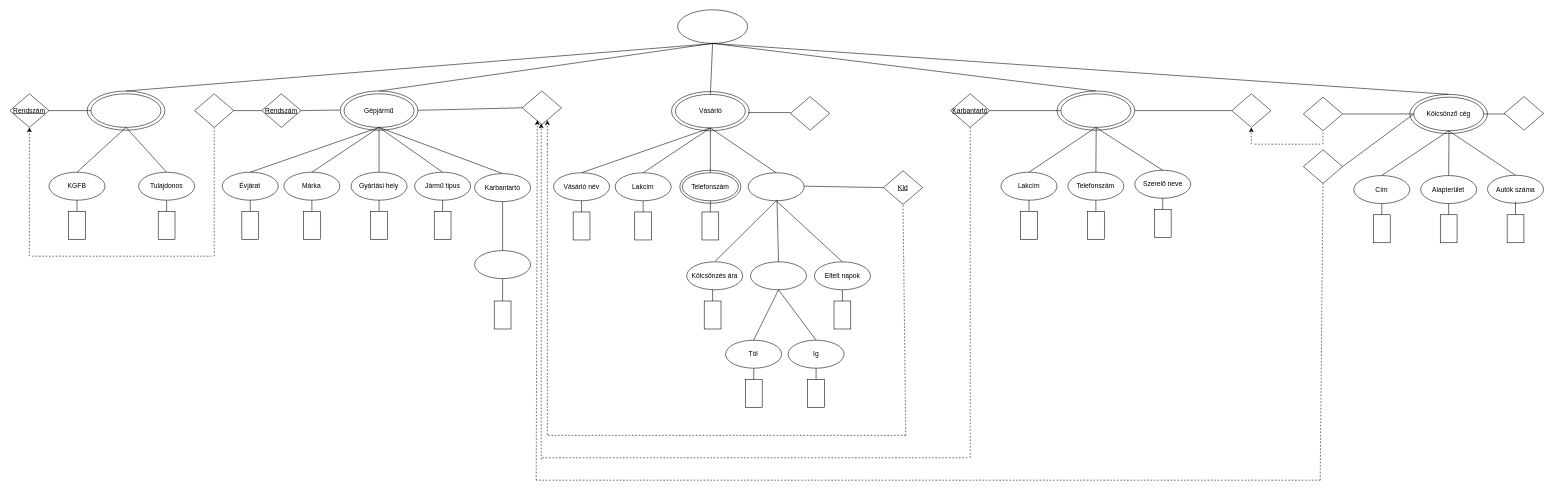
Some shapes in this 1554 by 494 pixel diagram are drawn without their labels. The box of each missing label's shape, as (x1, y1, x2, y2) in pixels:
Autókölcsönzés: (677, 9, 748, 43)
Azonosítja: (194, 93, 234, 127)
CégID: (1504, 96, 1544, 130)
Dolgozik: (1303, 97, 1343, 131)
Egyedi nyilvántartás: (90, 93, 161, 127)
JárműID: (522, 90, 561, 125)
Kiadva: (1303, 149, 1343, 183)
Kölcsönzés: (748, 172, 804, 201)
Kölcsönzés ideje: (750, 261, 807, 290)
Megtett kilométer: (474, 250, 531, 279)
Szerelő: (1060, 93, 1131, 127)
SzerelőID: (1231, 93, 1271, 127)
VásárlóID: (790, 96, 830, 130)
